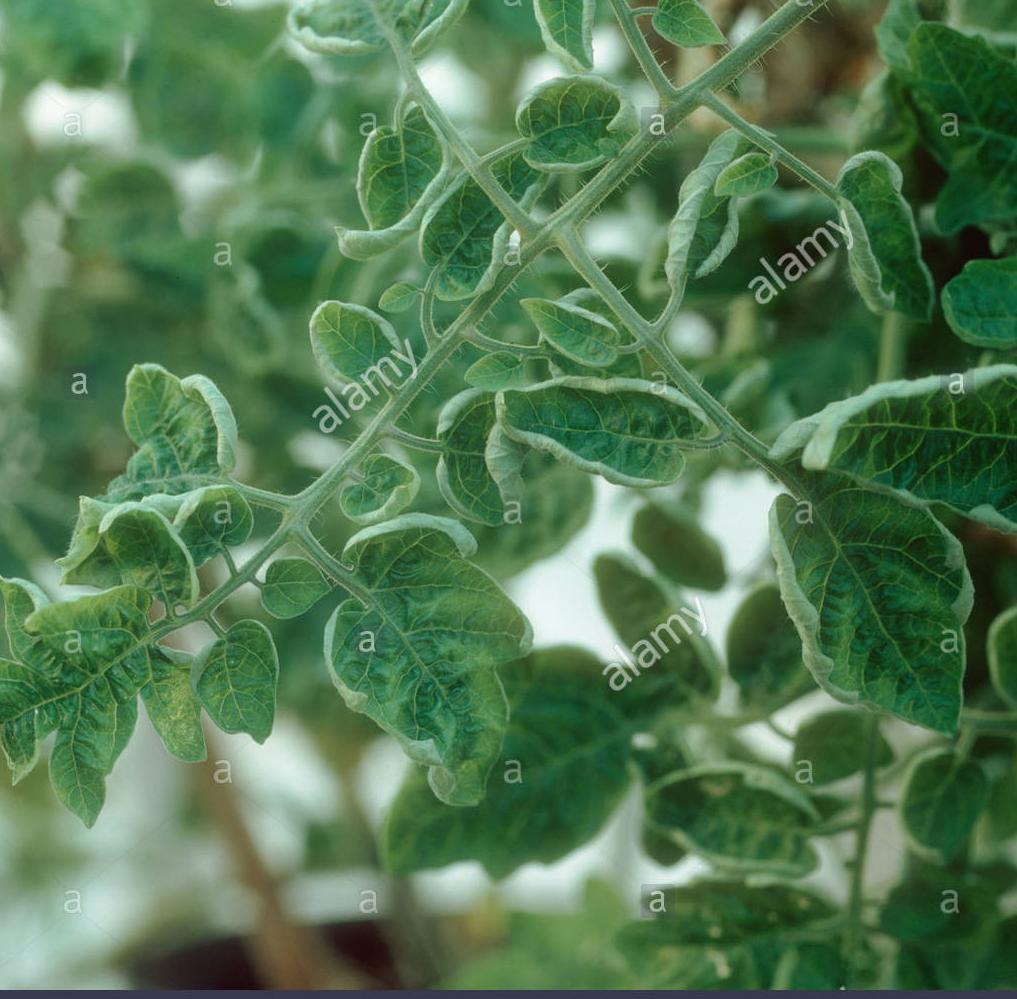Tomato leaf yellow virus: (766, 300, 1017, 608), (310, 509, 548, 831), (761, 459, 967, 730), (0, 537, 185, 826), (67, 348, 302, 558), (420, 107, 606, 322), (486, 371, 739, 512), (775, 133, 939, 336), (207, 285, 472, 384), (298, 0, 470, 126)
